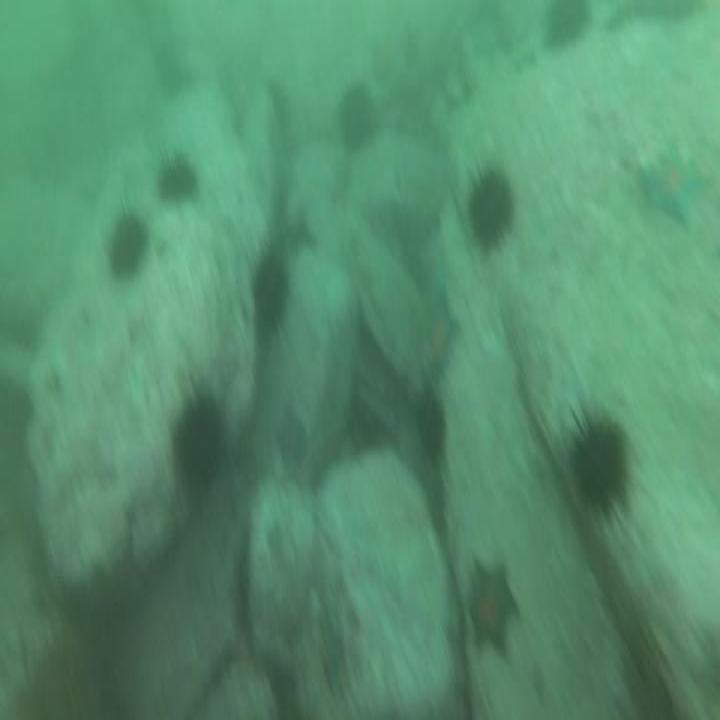echinus: (563, 398, 632, 526), (168, 384, 229, 503), (462, 158, 516, 265), (249, 244, 297, 343), (334, 75, 379, 160), (103, 204, 150, 284), (410, 380, 451, 466), (541, 0, 592, 57), (153, 149, 199, 210)
starfish: (634, 135, 712, 228), (461, 551, 521, 667), (420, 286, 464, 377), (274, 407, 311, 471), (370, 34, 399, 90), (396, 20, 424, 71)
